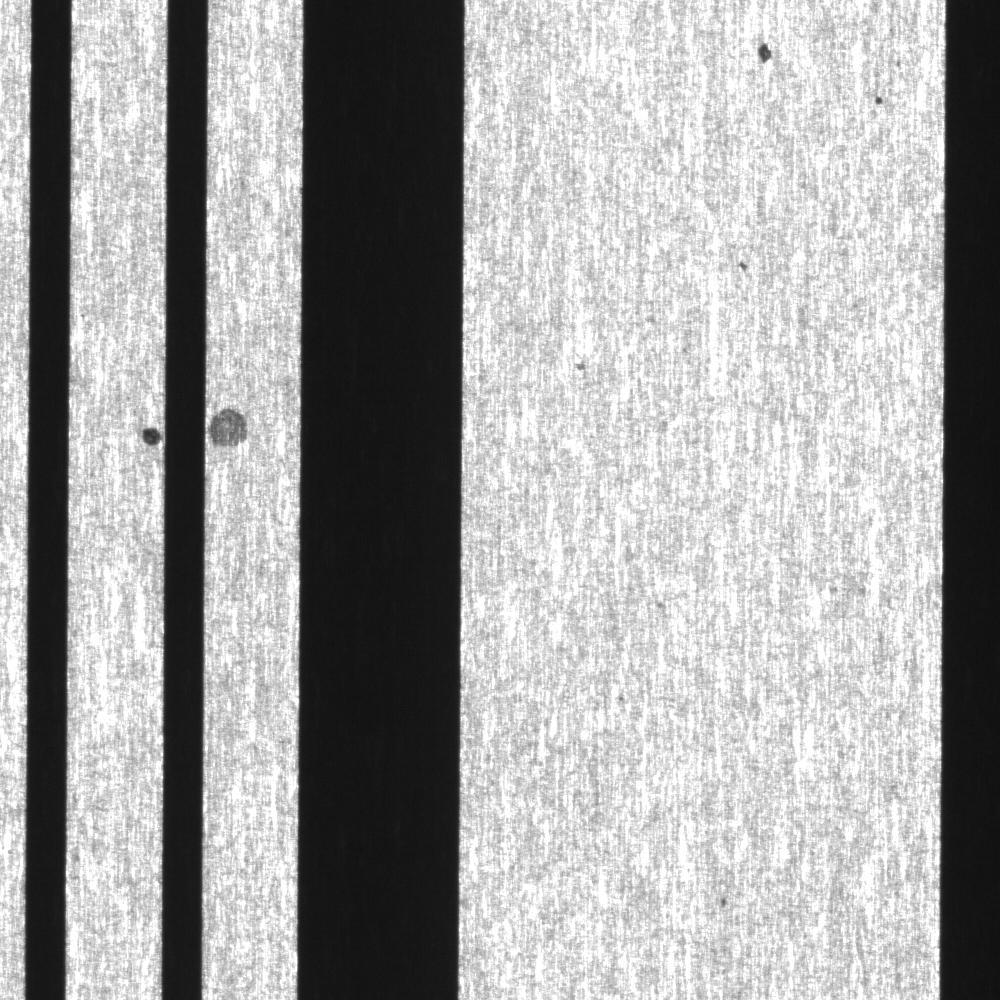Discolor: (209, 396, 273, 463)
Etching: (124, 418, 169, 454), (727, 241, 757, 290), (562, 350, 595, 386), (755, 28, 776, 74)
Pinhole: (866, 85, 888, 116), (714, 884, 731, 913)
